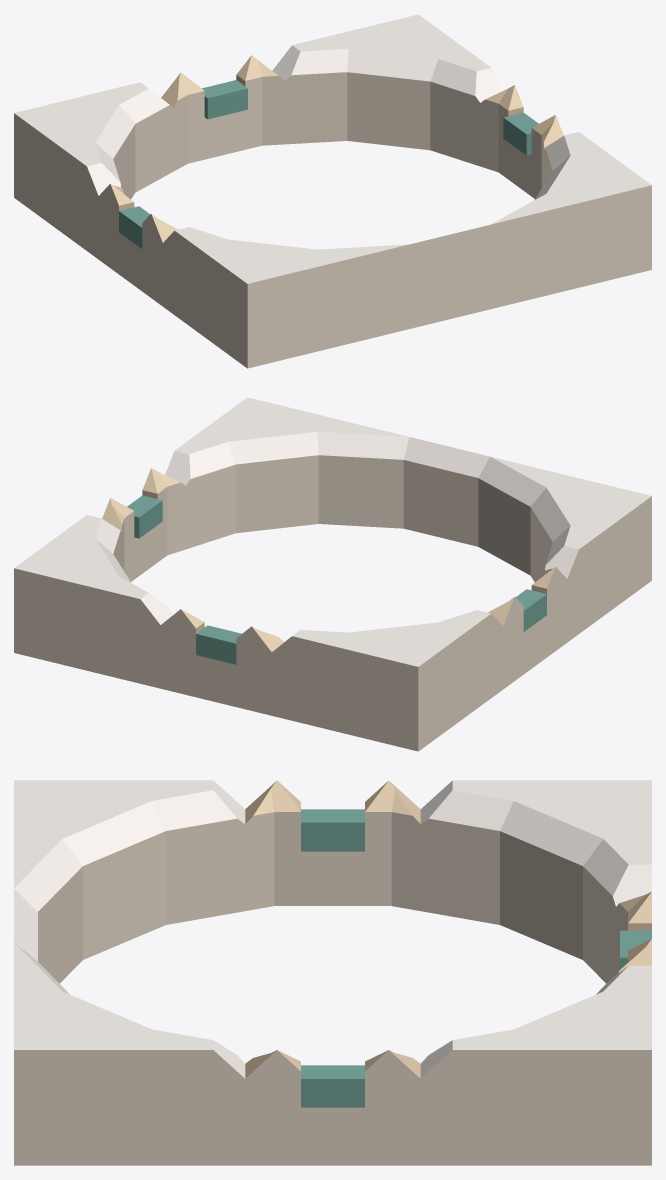
File: Puzzle_Floor_Conduit_Rotating_Housing_TJoint.glb
3 views of the same model, one above another, from view 1: azimuth 30°, elevation 25°; view 2: azimuth 150°, elevation 25°; view 3: azimuth 270°, elevation 25° (orthographic). The views are drawn at different scales.
Parts seen in each view (by area): view 1: Puzzle_Floor_Conduit_Rotating_Housing_TJoint; view 2: Puzzle_Floor_Conduit_Rotating_Housing_TJoint; view 3: Puzzle_Floor_Conduit_Rotating_Housing_TJoint.
Boxes of the visible parts, box(x1,y1,x2,y2) form: Puzzle_Floor_Conduit_Rotating_Housing_TJoint: box(14, 14, 651, 368); Puzzle_Floor_Conduit_Rotating_Housing_TJoint: box(14, 397, 651, 751); Puzzle_Floor_Conduit_Rotating_Housing_TJoint: box(14, 780, 651, 1165).
Size of the model in its own units: 1 by 0.2 by 1.
